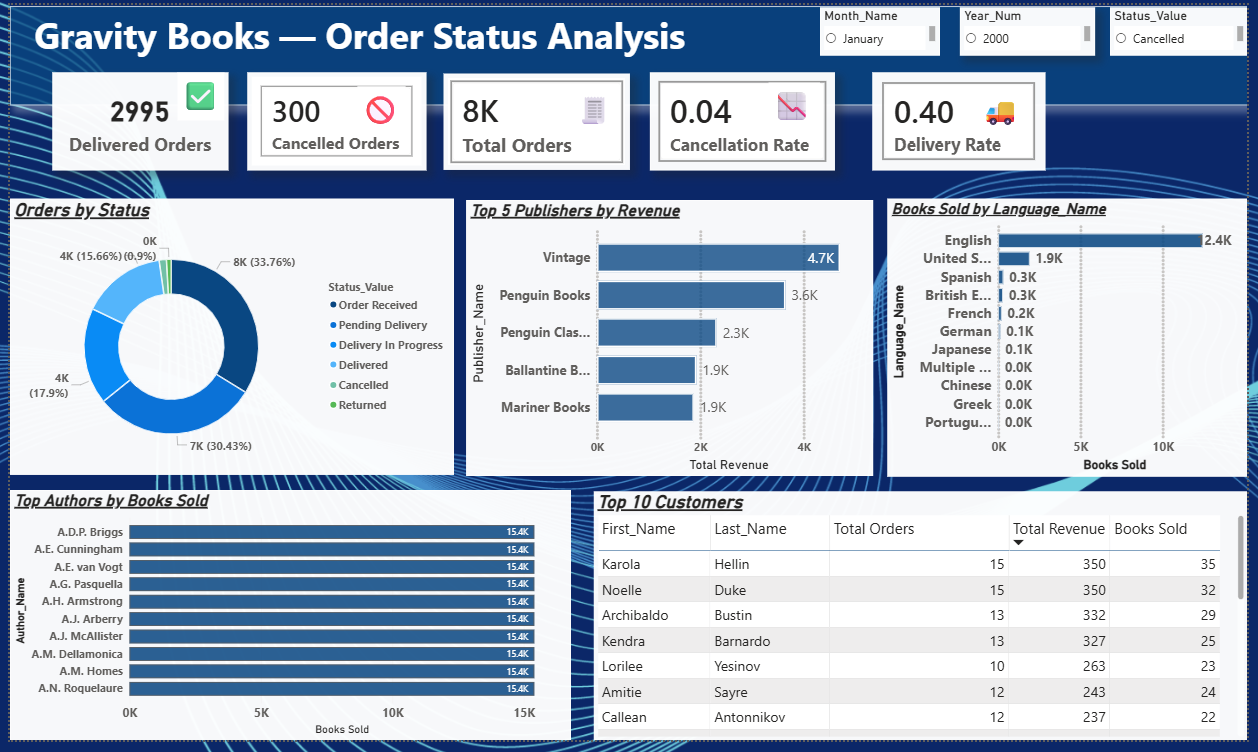

The dashboard page shown, as its layout file describes it:
{"tool":"powerbi","page":{"name":"Page 2","canvas":[1650,980],"ordinal":1},"visuals":[{"type":"textbox","box":[0,2,1650,132],"z":0},{"type":"listSlicer","fields":{"Values":["Dim_Date.Year_Num"]},"box":[1266,4,180,64],"z":1000},{"type":"listSlicer","fields":{"Values":["Dim_Date.Month_Name"]},"box":[1080,4,160,64],"z":2000},{"type":"listSlicer","fields":{"Values":["Dim_Order_Status.Status_Value"]},"box":[1466,4,184,64],"z":3000},{"type":"cardVisual","fields":{"Data":["Table_measures.Cancellation Rate"]},"box":[854,90,246,130],"z":4000},{"type":"cardVisual","fields":{"Data":["Table_measures.Delivery Rate"]},"box":[1150,90,230,130],"z":5000},{"type":"cardVisual","fields":{"Data":["Table_measures.Total Orders"]},"box":[578,92,248,128],"z":6000},{"type":"cardVisual","fields":{"Data":["Table_measures.Cancelled Orders"]},"box":[316,90,238,130],"z":7000},{"type":"card","fields":{"Values":["Table_measures.Delivered Orders"]},"box":[56,90,234,130],"z":8000},{"type":"donutChart","title":"Orders by Status","fields":{"Category":["Dim_Order_Status.Status_Value"],"Y":["Table_measures.Order Status Count"]},"box":[0,258,592,368],"z":9000},{"type":"barChart","title":"Top Authors by Books Sold ","fields":{"Category":["Dim_Author.Author_Name"],"Y":["Table_measures.Books Sold"]},"box":[0,646,748,334],"z":10000},{"type":"barChart","title":"Top 5 Publishers by Revenue","fields":{"Category":["Dim_Book.Publisher_Name"],"Y":["Table_measures.Total Revenue"]},"box":[608,260,542,368],"z":11000},{"type":"barChart","fields":{"Category":["Dim_Book.Language_Name"],"Y":["Table_measures.Books Sold"]},"box":[1170,258,480,370],"z":12000},{"type":"tableEx","title":"Top  10 Customers","fields":{"Values":["Dim_Customer.First_Name","Dim_Customer.Last_Name","Table_measures.Total Orders","Table_measures.Total Revenue","Table_measures.Books Sold"]},"box":[778,648,872,332],"z":13000},{"type":"textbox","box":[224,90,62,64],"z":14000},{"type":"textbox","box":[464,108,64,60],"z":15000},{"type":"textbox","box":[748,108,60,60],"z":16000},{"type":"textbox","box":[1012,104,68,66],"z":17000},{"type":"textbox","box":[1290,110,70,64],"z":18000}]}

Visuals, with their boxes in screenshot pixels (x1, y1, x2, y2), scaled from the page's 1650x980 canvas onto the 1258x752 screenshot:
textbox: Rect(0, 2, 1257, 103)
listSlicer - Dim_Date.Year_Num: Rect(965, 3, 1102, 52)
listSlicer - Dim_Date.Month_Name: Rect(823, 3, 945, 52)
listSlicer - Dim_Order_Status.Status_Value: Rect(1118, 3, 1257, 52)
cardVisual - Table_measures.Cancellation Rate: Rect(651, 69, 839, 169)
cardVisual - Table_measures.Delivery Rate: Rect(877, 69, 1052, 169)
cardVisual - Table_measures.Total Orders: Rect(441, 71, 630, 169)
cardVisual - Table_measures.Cancelled Orders: Rect(241, 69, 422, 169)
card - Table_measures.Delivered Orders: Rect(43, 69, 221, 169)
"Orders by Status" donutChart: Rect(0, 198, 451, 480)
"Top Authors by Books Sold " barChart: Rect(0, 496, 570, 751)
"Top 5 Publishers by Revenue" barChart: Rect(464, 200, 877, 482)
barChart - Dim_Book.Language_Name x Table_measures.Books Sold: Rect(892, 198, 1257, 482)
"Top  10 Customers" tableEx: Rect(593, 497, 1257, 751)
textbox: Rect(171, 69, 218, 118)
textbox: Rect(354, 83, 403, 129)
textbox: Rect(570, 83, 616, 129)
textbox: Rect(772, 80, 823, 130)
textbox: Rect(984, 84, 1037, 134)
